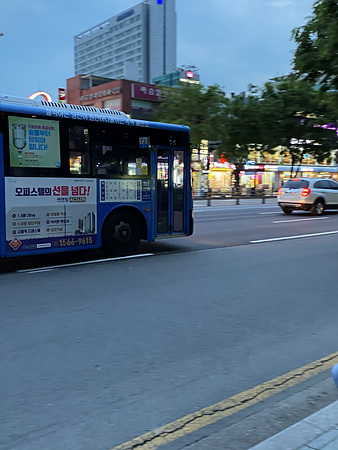entrance: (151, 144, 188, 239)
